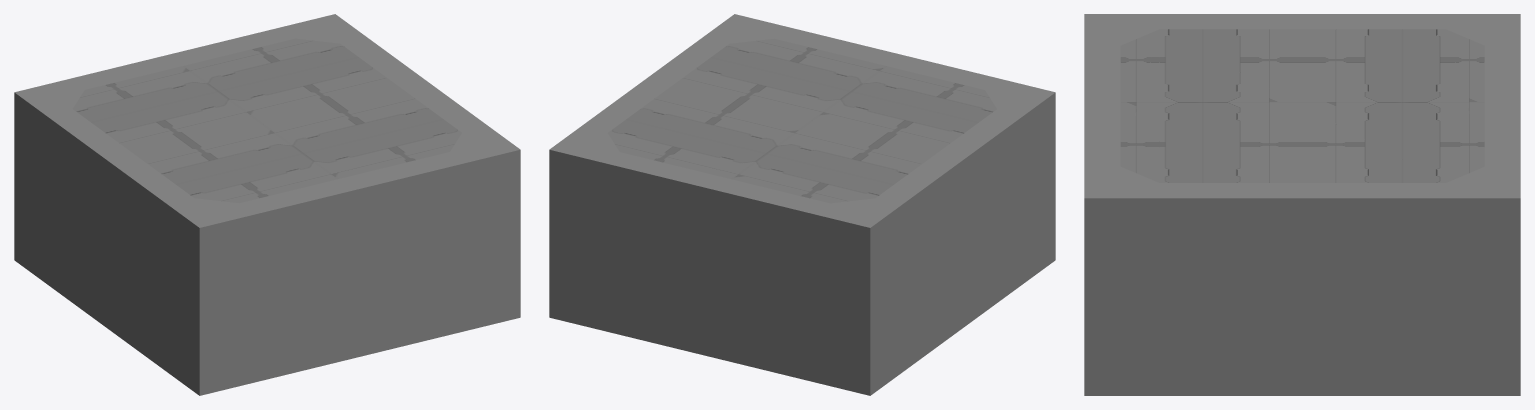
Rendered from SM_Floor_10x10_2.fbx.
The picture shows the model from 3 angles, left to right: view 1: azimuth 30°, elevation 25°; view 2: azimuth 150°, elevation 25°; view 3: azimuth 270°, elevation 25°; orthographic projection. The views are drawn at different scales.
Parts seen in each view (by area): view 1: SM_Floor_10x10_2; view 2: SM_Floor_10x10_2; view 3: SM_Floor_10x10_2.
Part boxes in pixels (x1,y1,x2,y2): SM_Floor_10x10_2: (14,14,520,395); SM_Floor_10x10_2: (549,14,1055,395); SM_Floor_10x10_2: (1084,14,1520,395).
Bounding box in the file's own units: 1000 × 500 × 1000.
